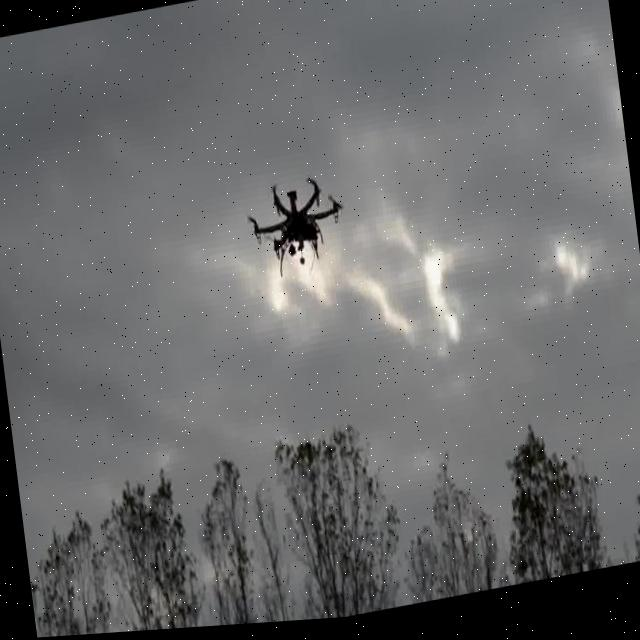drone: (243, 169, 349, 286)
